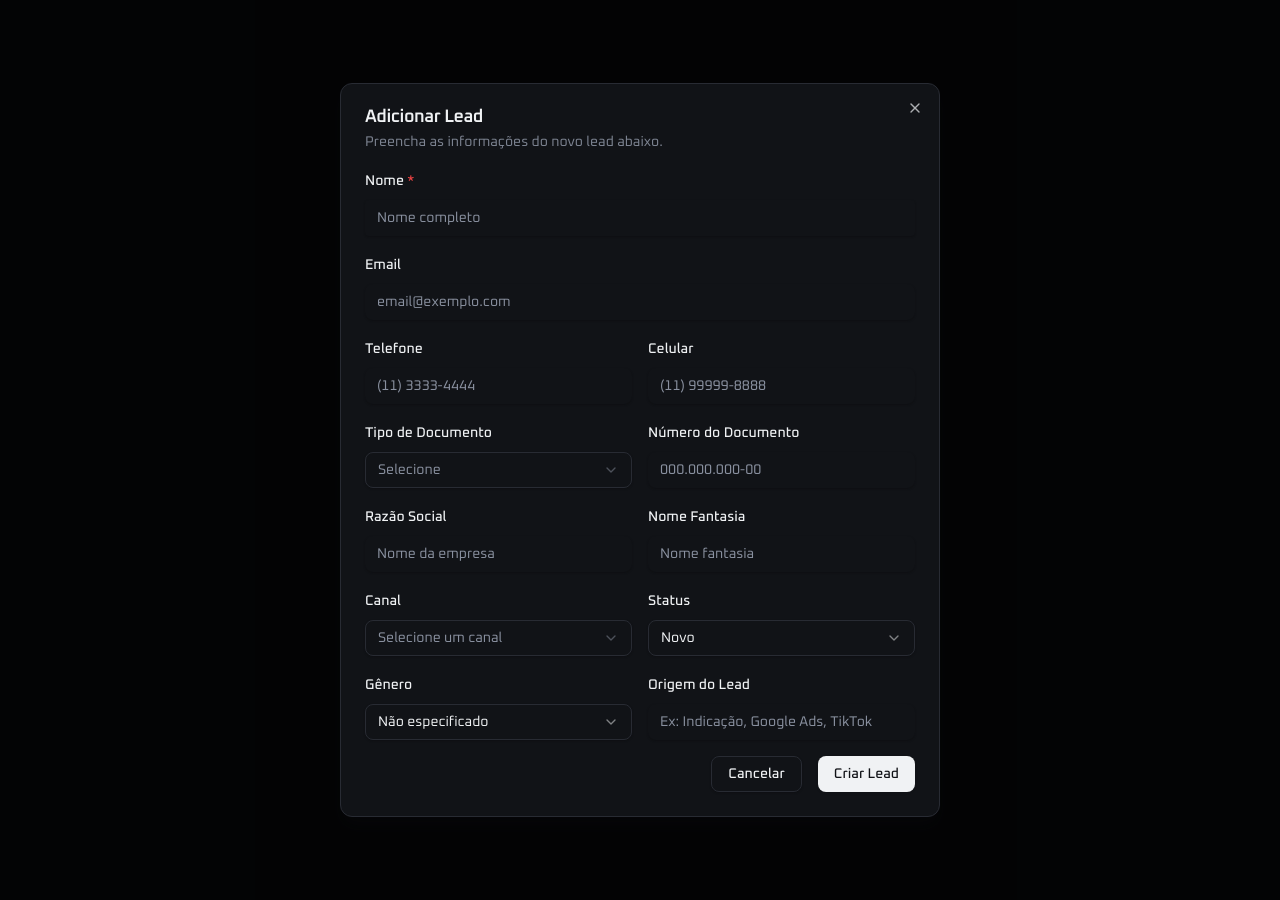
it: LeadFormDialog › Create Mode › should show validation error when name is empty
Click the button "Criar Lead".
click(866, 774)  # box [818,756,915,792]
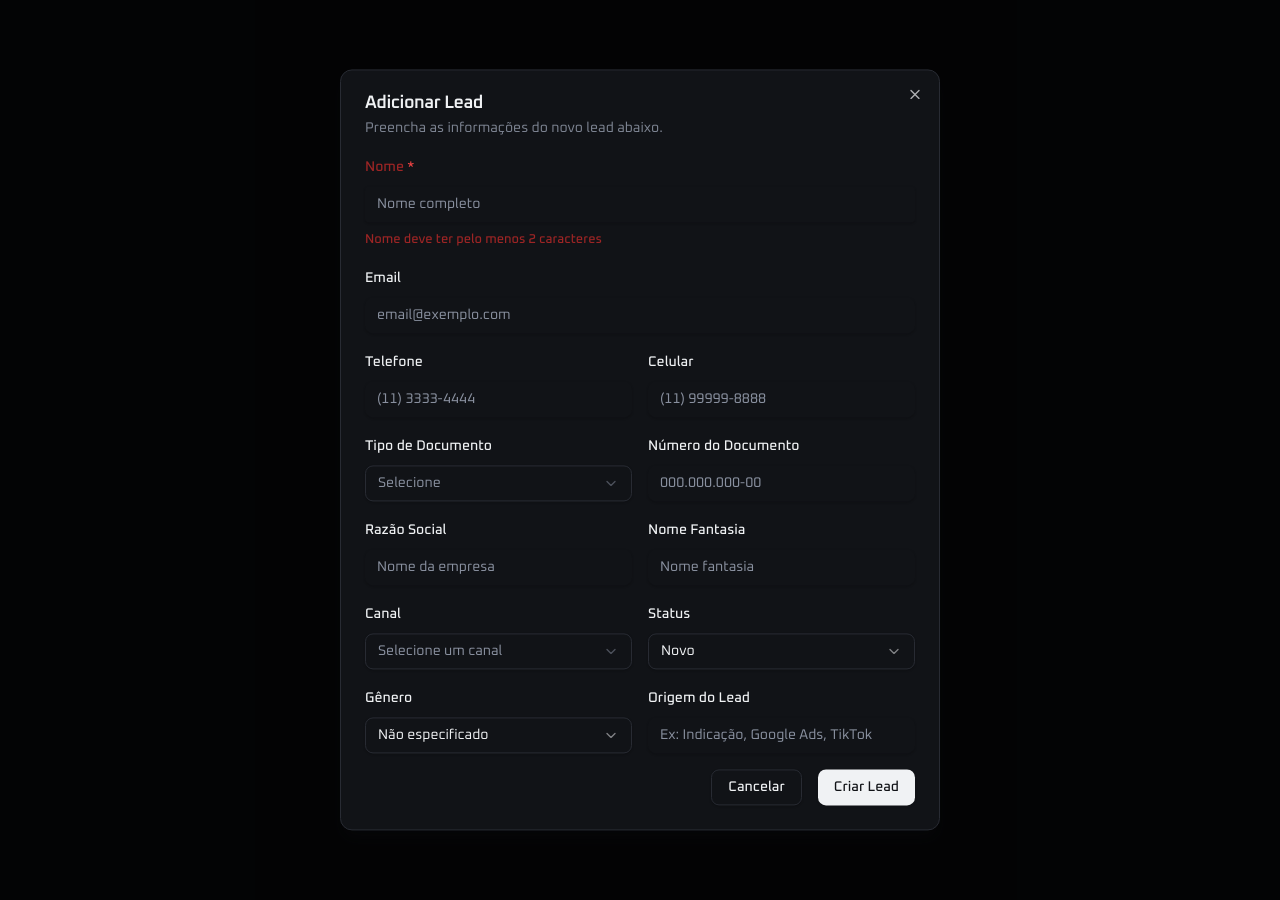
Result: the text "Nome deve ter pelo menos 2 caracteres" is shown at [365,233,602,246]
